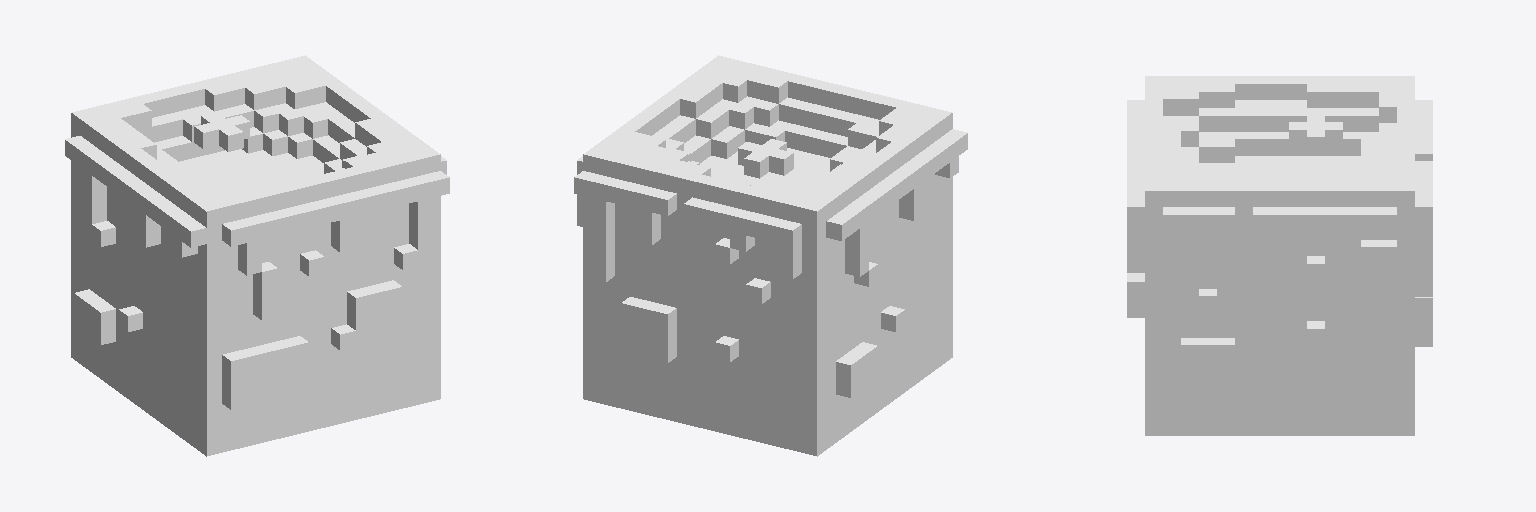
The model's file is MountainRealWater.obj.
3 views of the same model, side by side, from view 1: azimuth 30°, elevation 25°; view 2: azimuth 150°, elevation 25°; view 3: azimuth 270°, elevation 25° (orthographic).
Visible parts, largest first — view 1: object 1; view 2: object 1; view 3: object 1.
Boxes of the visible parts, box(x1,y1,x2,y2) form: object 1: box(65, 55, 449, 456); object 1: box(574, 55, 967, 456); object 1: box(1127, 76, 1432, 435).
Size of the model in its own units: 1.7 by 1.5 by 1.7.